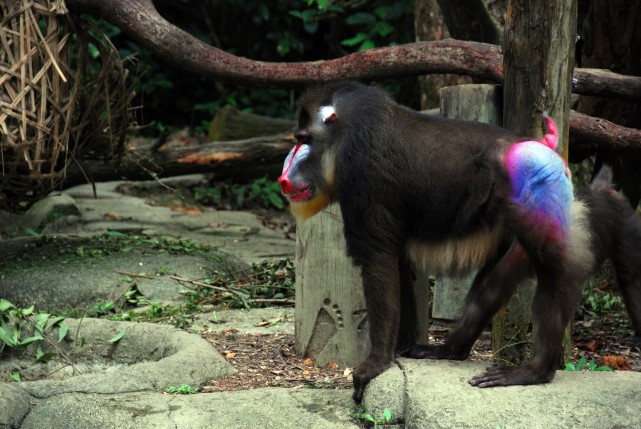Mandrill: (277, 79, 584, 370)
